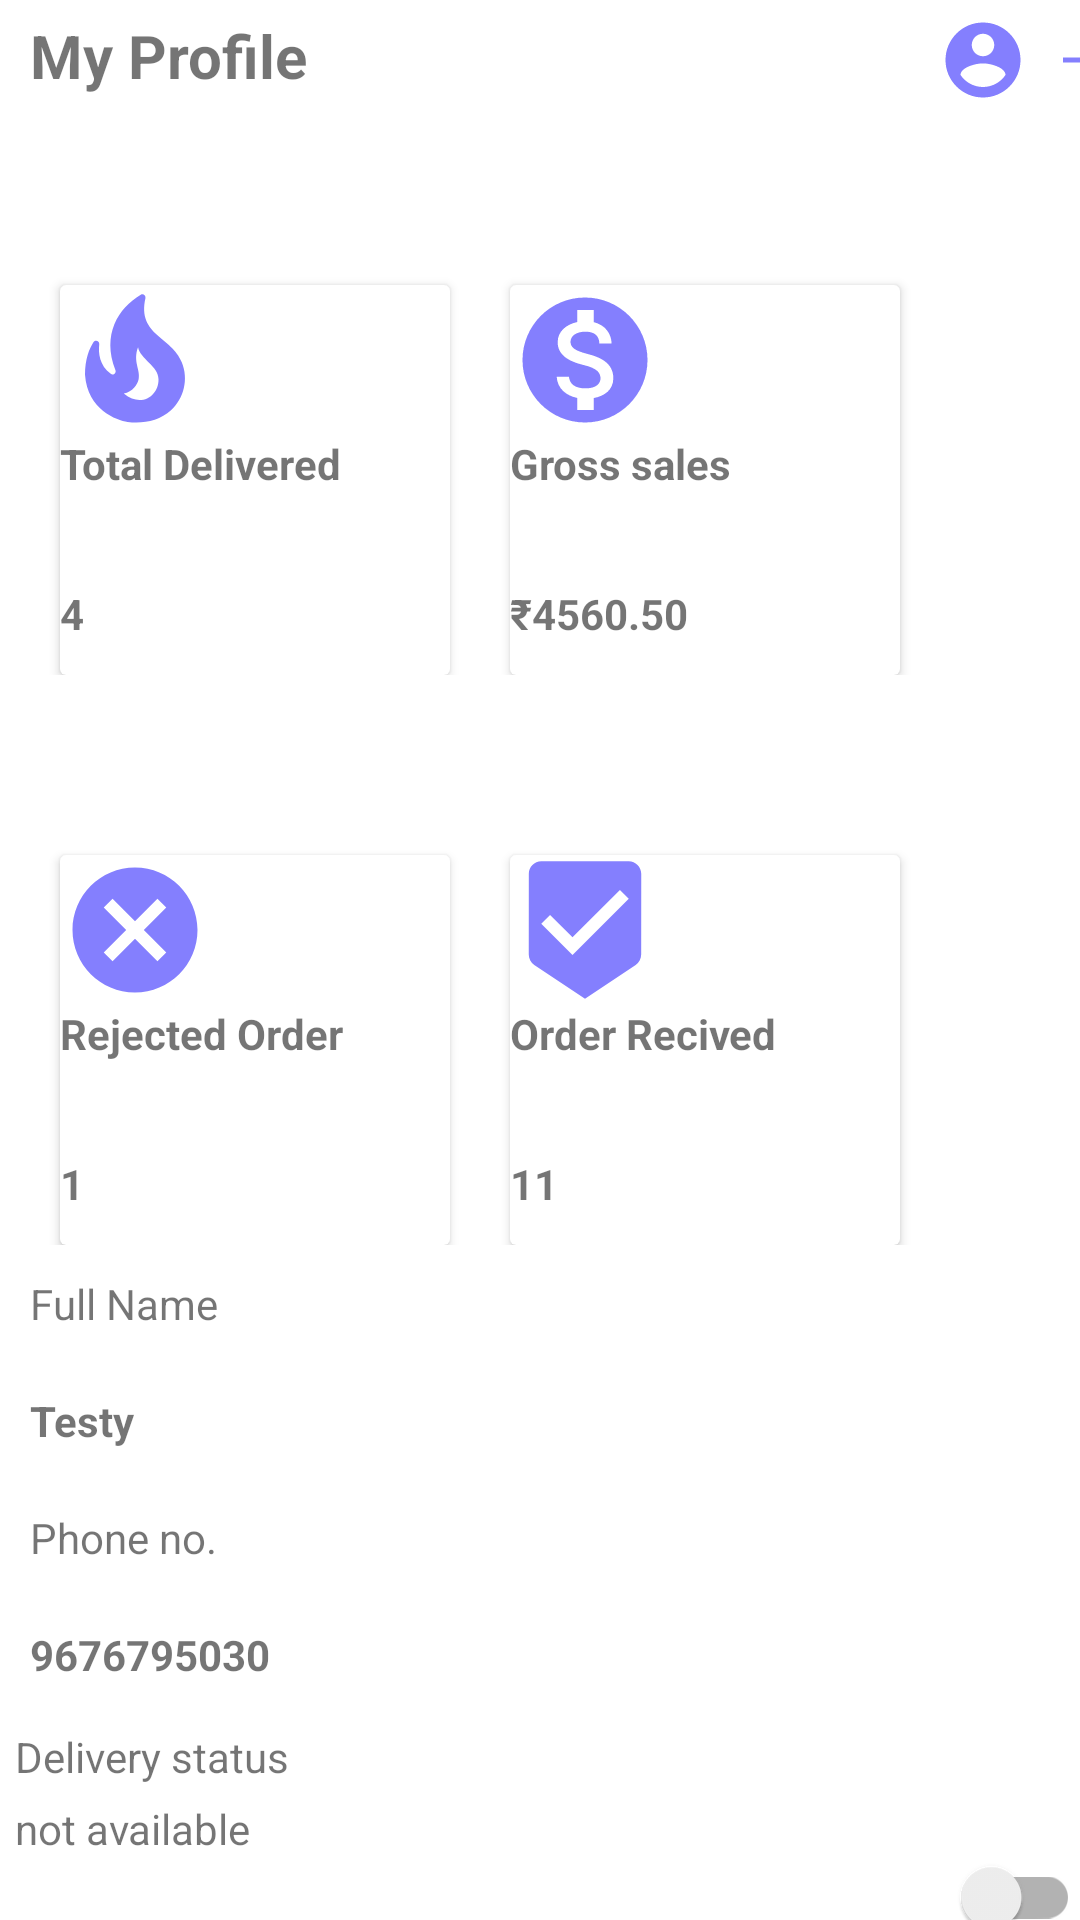

Screen size 1080x1920. Icon name, then its box in pixels as detection(x1, y1, x2, y2):
account circle puple: detection(945, 22, 1021, 98)
beenhere: detection(528, 861, 642, 999)
cancel: detection(72, 867, 198, 993)
local fire department: detection(85, 294, 185, 423)
monetization on: detection(522, 297, 648, 423)
